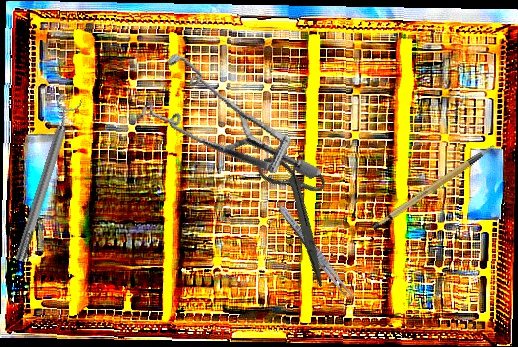Dressing Forceps: (274, 201, 357, 303)
Fixation Ring: (5, 92, 85, 265)
Iris Scissors: (224, 138, 378, 289)
Scalpel Handle: (363, 143, 506, 233)
Speculum: (121, 18, 324, 236)
